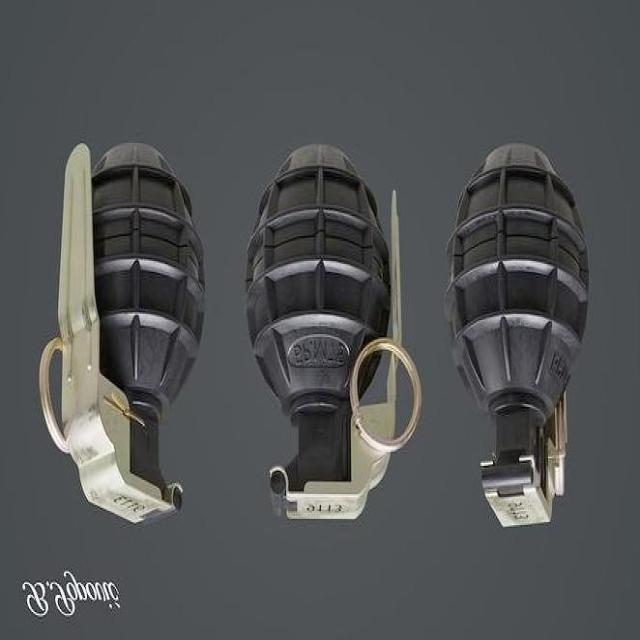grenade: (247, 144, 422, 522), (41, 143, 206, 525), (446, 143, 590, 530)
